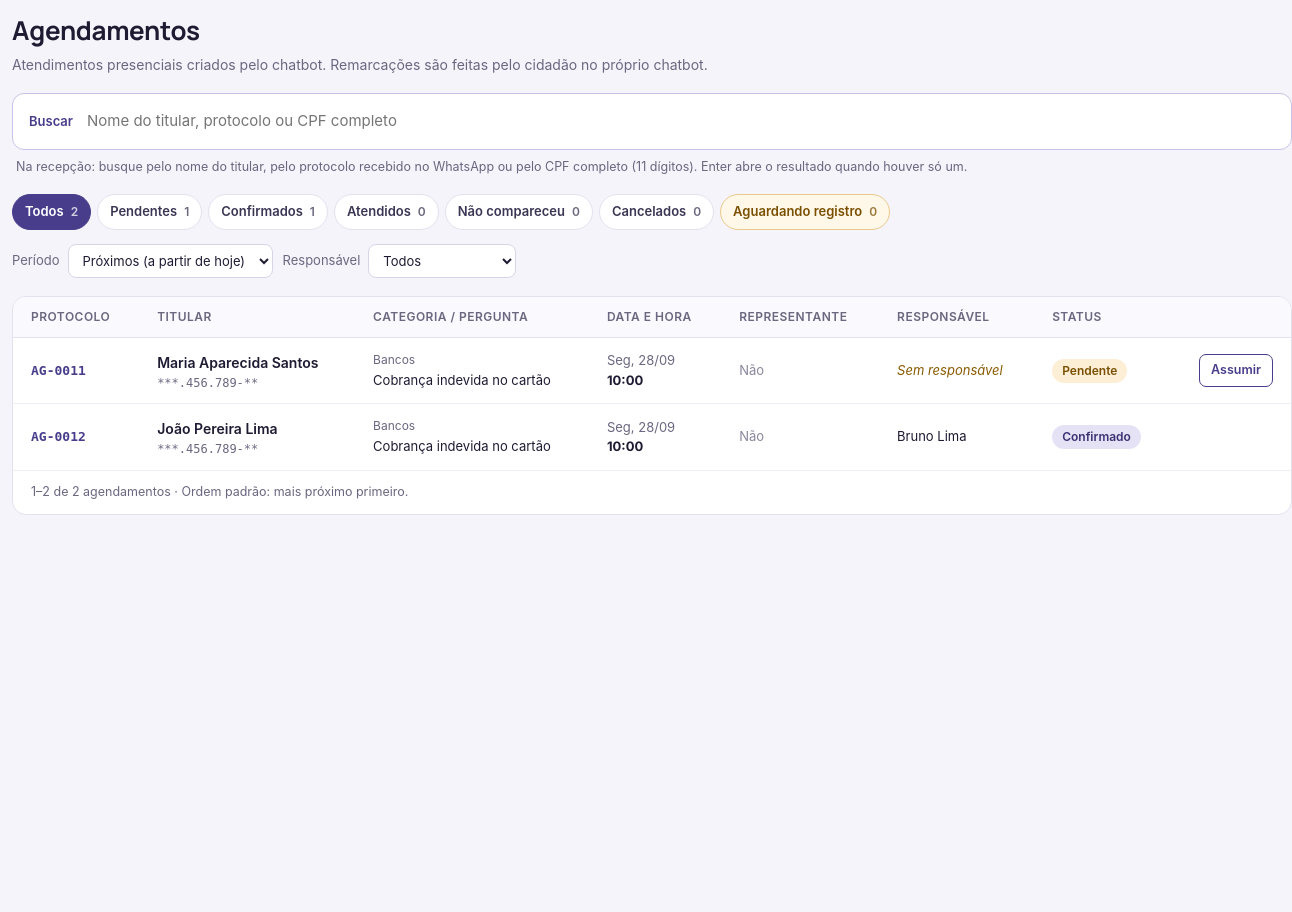
Scenario: Appointments.page: Assumir › com 409 APPOINTMENT_CANCELED avisa a mensagem do code e rebusca a lista e o contador
This screenshot has width=1292, height=912.
Check: the text "Maria Aparecida Santos" is shown, box [157,352,337,372]
Click the button "Assumir" at (1236, 370), box [1199,354,1273,387]
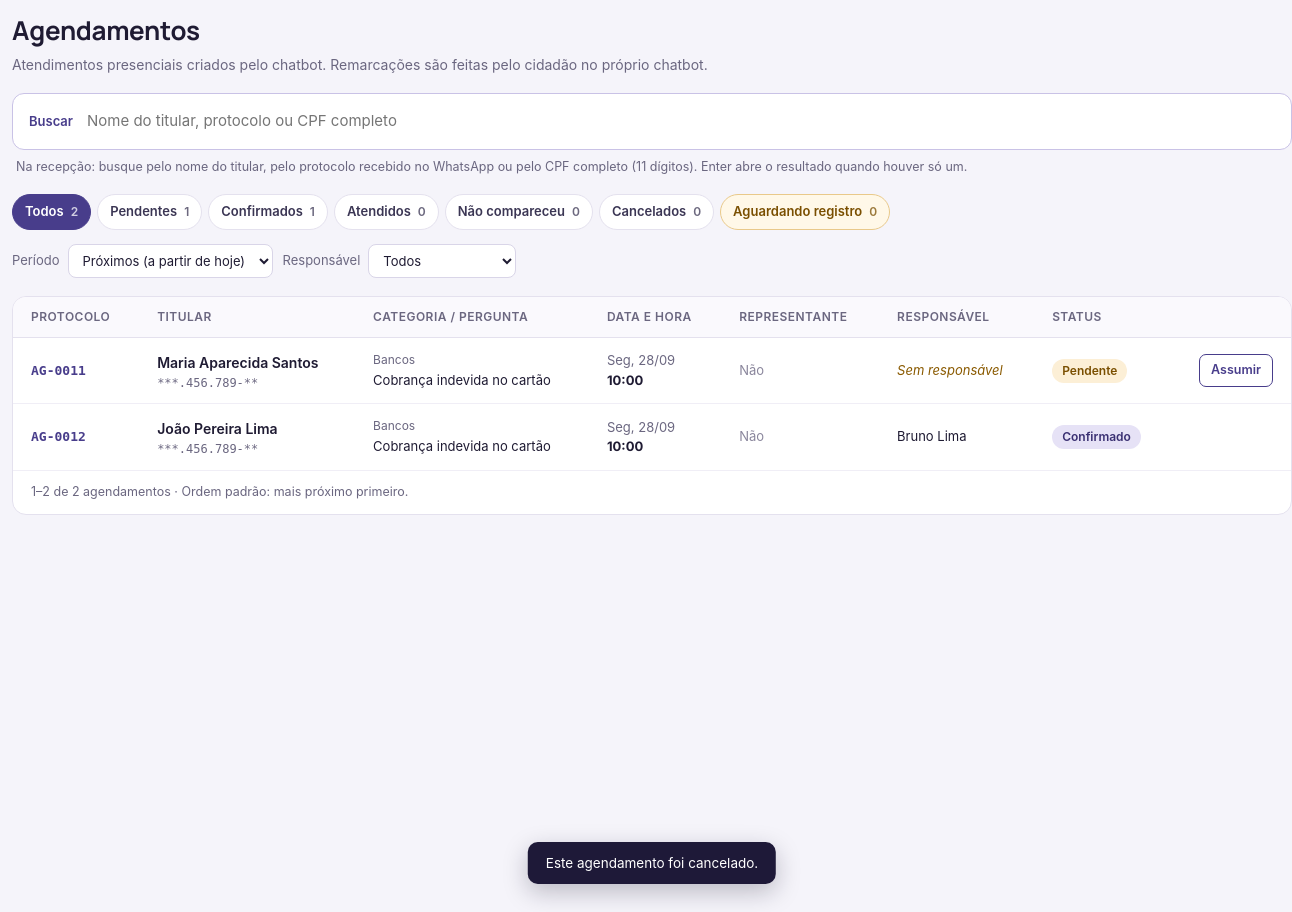
Check: the text "Este agendamento foi cancelado." is shown, box [528,842,776,884]
